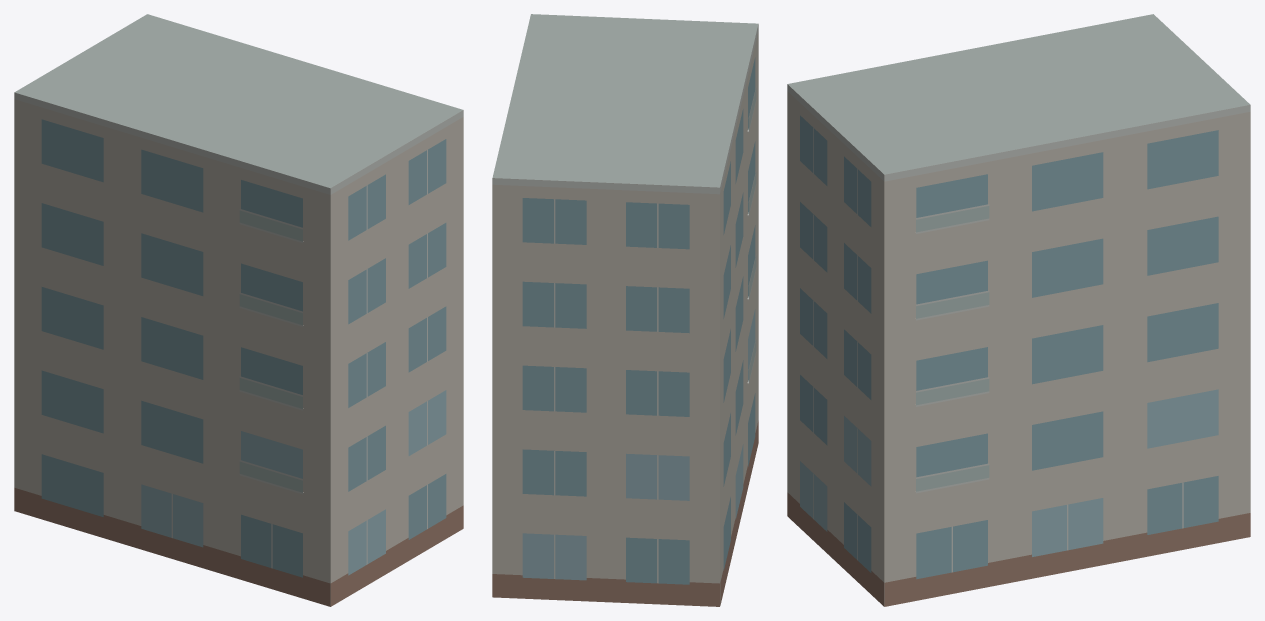
Rendered from residential-eda7ff16-2527-4569-9367-4b5c5448bc95.glb.
The picture shows the model from 3 angles, left to right: view 1: azimuth 30°, elevation 25°; view 2: azimuth 150°, elevation 25°; view 3: azimuth 270°, elevation 25°; orthographic projection. The views are drawn at different scales.
Parts seen in each view (by area): view 1: residential-eda7ff16-2527-4569-9367-4b5c5448bc95.tmp; view 2: residential-eda7ff16-2527-4569-9367-4b5c5448bc95.tmp; view 3: residential-eda7ff16-2527-4569-9367-4b5c5448bc95.tmp.
Part boxes in pixels (bbox=[...]): residential-eda7ff16-2527-4569-9367-4b5c5448bc95.tmp: bbox=[14, 14, 463, 606]; residential-eda7ff16-2527-4569-9367-4b5c5448bc95.tmp: bbox=[492, 14, 758, 606]; residential-eda7ff16-2527-4569-9367-4b5c5448bc95.tmp: bbox=[787, 14, 1250, 606].
Bounding box in the file's own units: 12.17 × 15.25 × 14.83.
